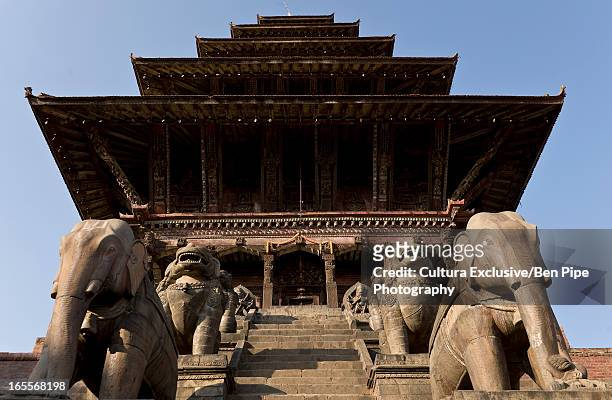nyathapola: (6, 8, 597, 399)
